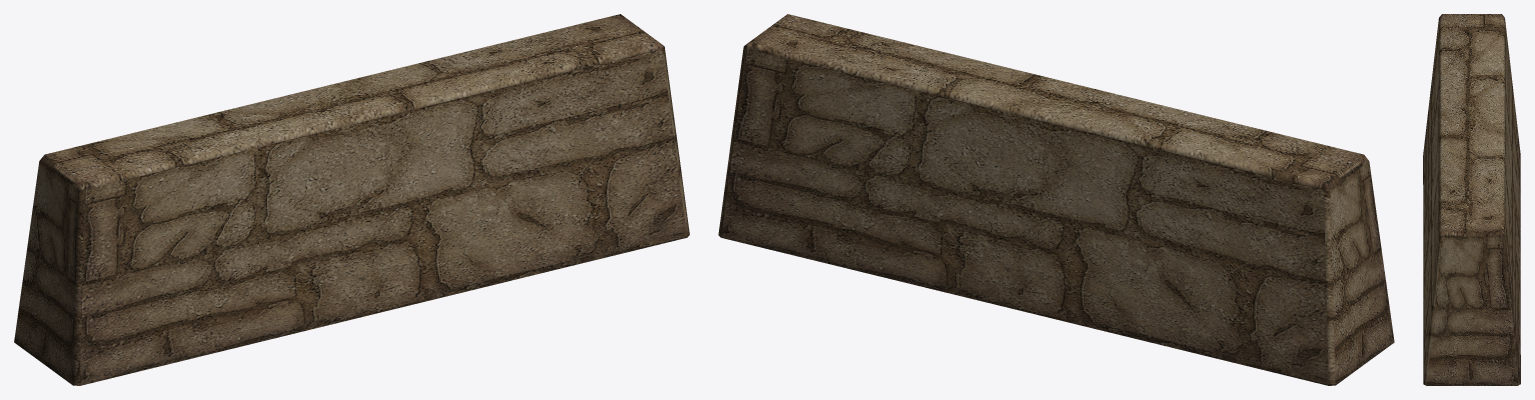
File: Wall_01.fbx
3 views of the same model, side by side, from view 1: azimuth 30°, elevation 25°; view 2: azimuth 150°, elevation 25°; view 3: azimuth 270°, elevation 25° (orthographic). The views are drawn at different scales.
Visible parts, largest first — view 1: Wall_01; view 2: Wall_01; view 3: Wall_01.
Boxes of the visible parts, x1=… form: Wall_01: x1=14, y1=14, x2=689, y2=385; Wall_01: x1=718, y1=14, x2=1394, y2=385; Wall_01: x1=1423, y1=14, x2=1520, y2=385.
Bounding box in the file's own units: 4.58 × 1.35 × 0.8127.
